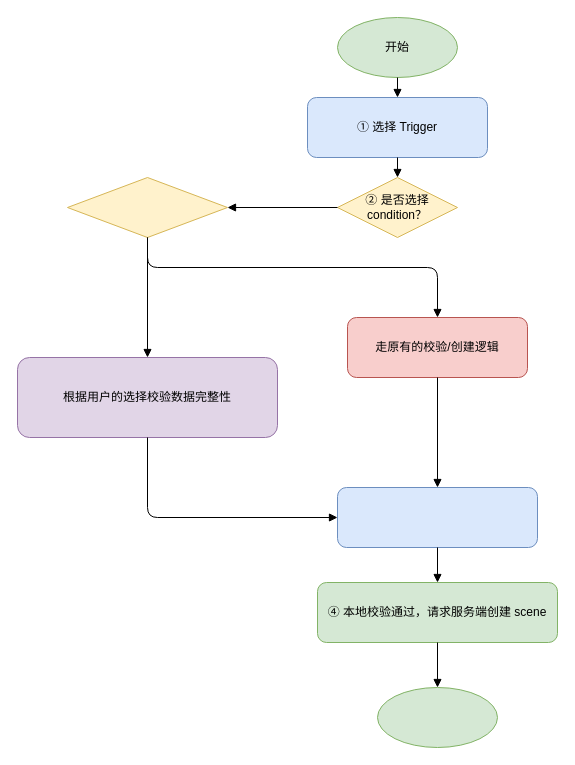
Some shapes in this 575 by 765 pixel diagram are drawn without their labels. Here are the shapes that lost their labels. From the top down, the centre of each, then its label:
At [147,207]: "选择了“持续一段时间”？".
At [437,517]: "③ 选择 Action（走原有逻辑）".
At [437,717]: "结束".
